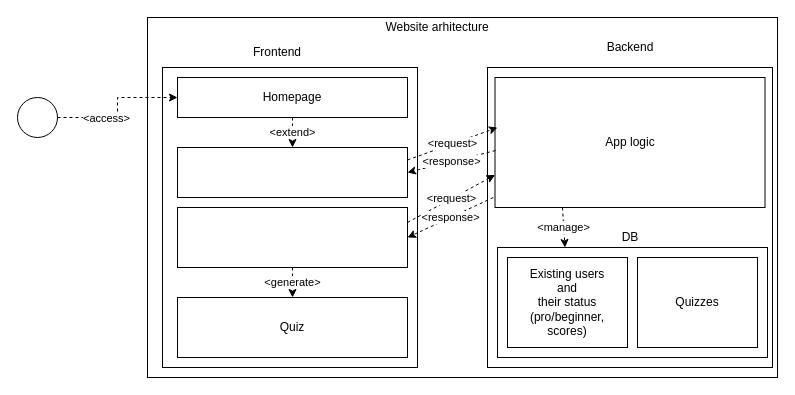
Some shapes in this 795 by 395 pixel diagram are drawn without their labels. Each missing label, with the centre of its shape:
List of quizzes: the point at 292,237
Login/Register: the point at 292,172
User: the point at 37,117
